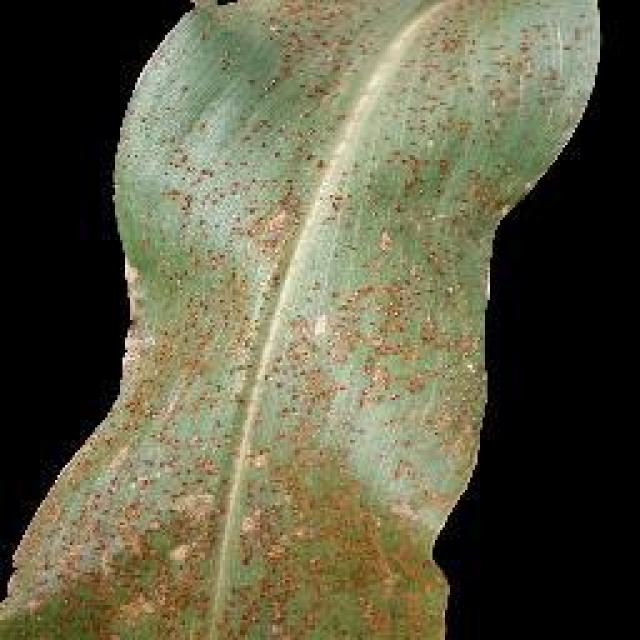Corn Common Rust: (158, 93, 505, 630)
